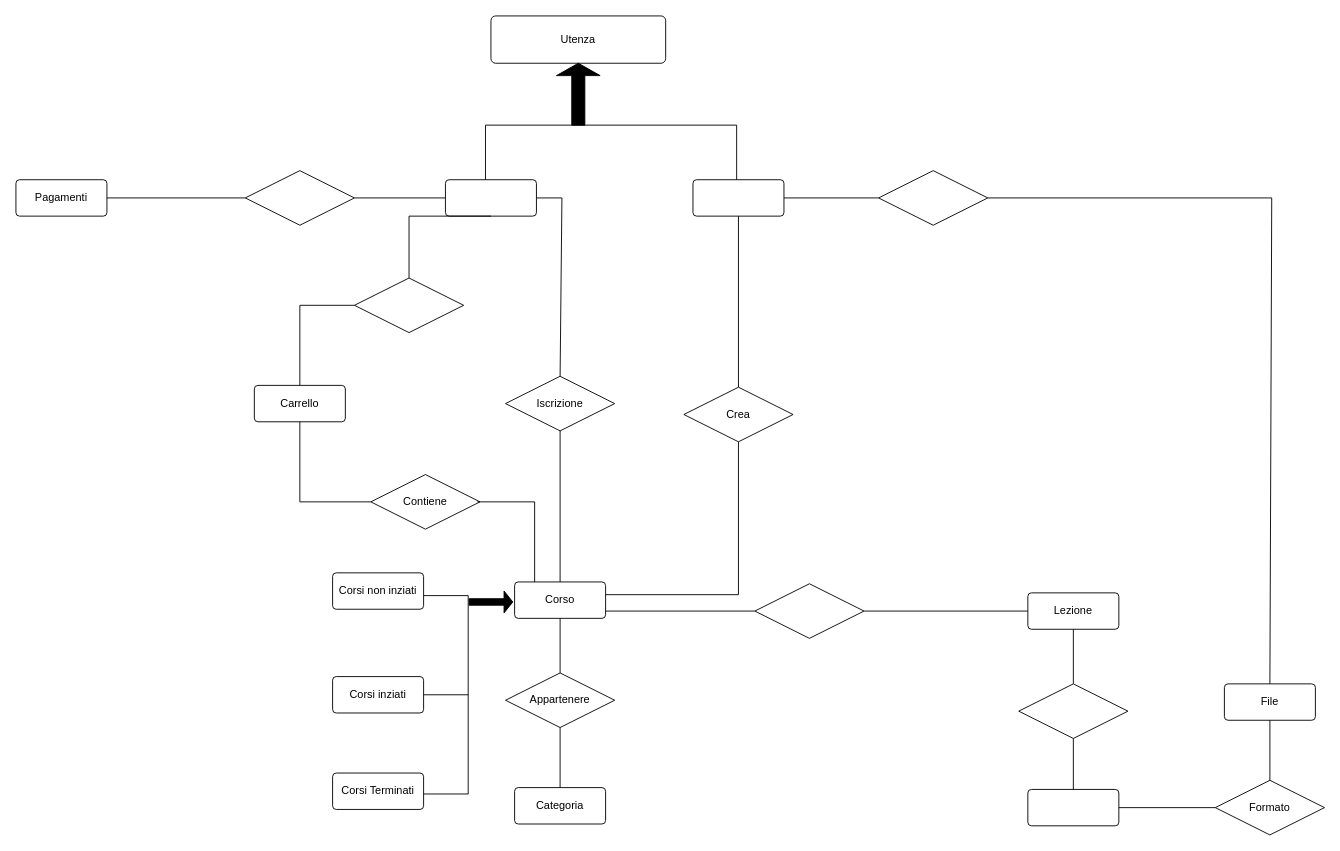
This 1340x851 diagram has some shape labels left out. The shapes that lost their labels are listed below. From the top down, each one's centre as x and y in pixels, then its label:
point 299,197: Effettua
point 490,197: Studente
point 738,197: Docente
point 933,197: Carica
point 409,305: Possiede
point 809,610: Comporre
point 1073,710: Possedere
point 1073,807: Argomenti
